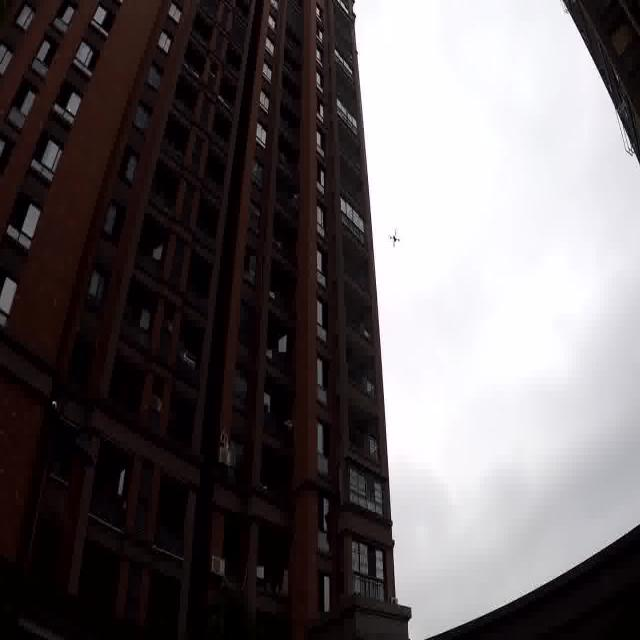Drone_FW: (387, 226, 402, 252)
